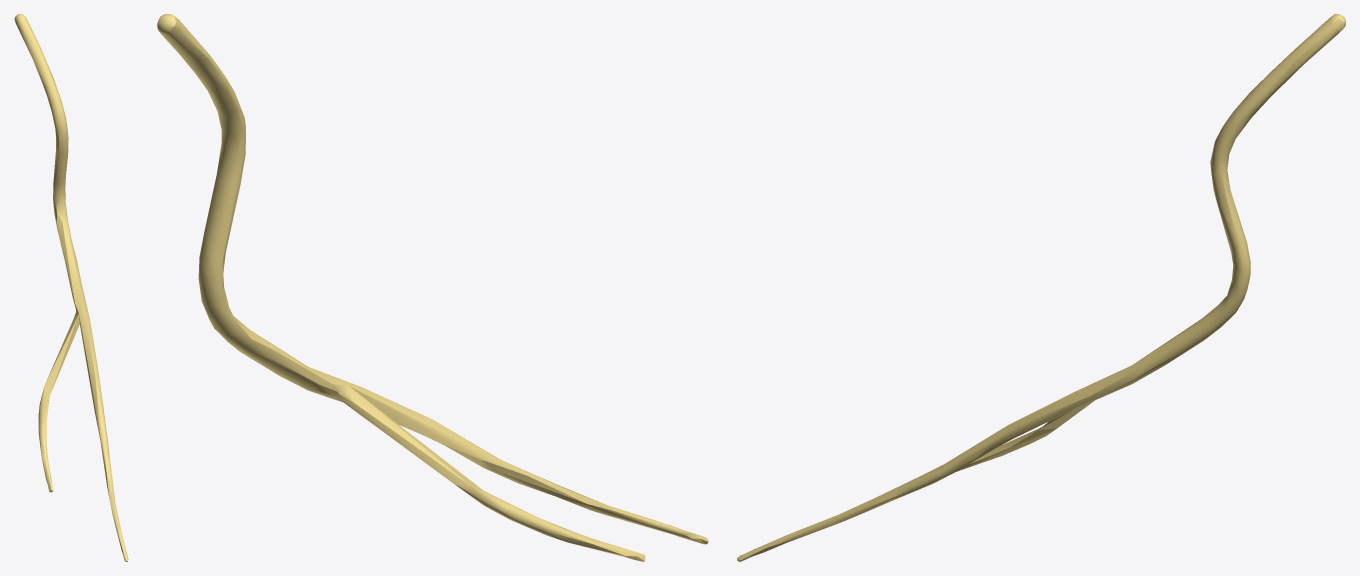
Rendered from fma52605_fj4031.glb.
3 renders of one model, left to right at view 1: azimuth 30°, elevation 25°; view 2: azimuth 150°, elevation 25°; view 3: azimuth 270°, elevation 25°, orthographic. The views are drawn at different scales.
Parts seen in each view (by area): view 1: FMA52605_FJ4031; view 2: FMA52605_FJ4031; view 3: FMA52605_FJ4031.
Boxes of the visible parts, x1,y1,x2,y2 form: FMA52605_FJ4031: (14, 14, 128, 561); FMA52605_FJ4031: (157, 14, 708, 561); FMA52605_FJ4031: (737, 14, 1345, 561).
Bounding box in the file's own units: 0.00729 × 0.0223 × 0.0202.
